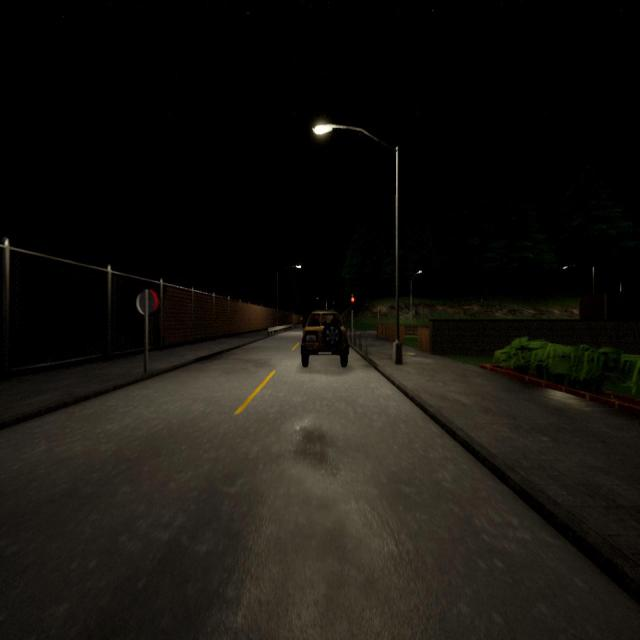Traffic_Signs: (137, 288, 157, 316)
Vehicle: (301, 310, 349, 367)
traffic_light: (350, 297, 355, 309)
